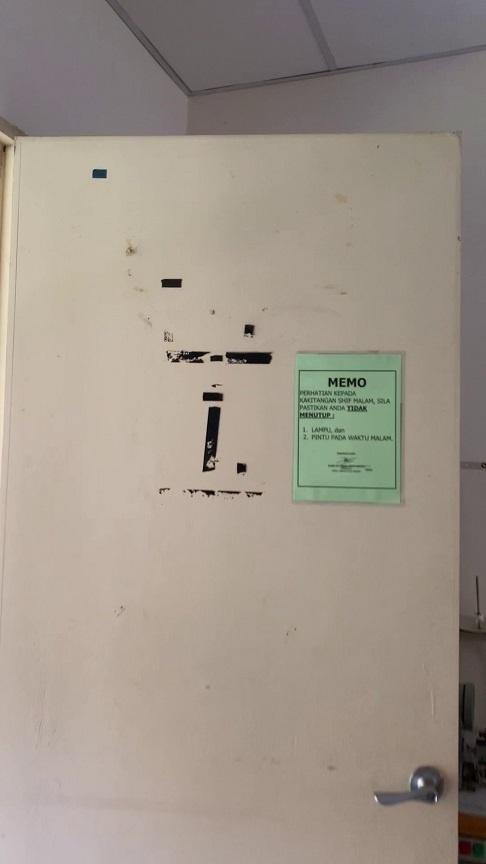door: (0, 140, 473, 864)
